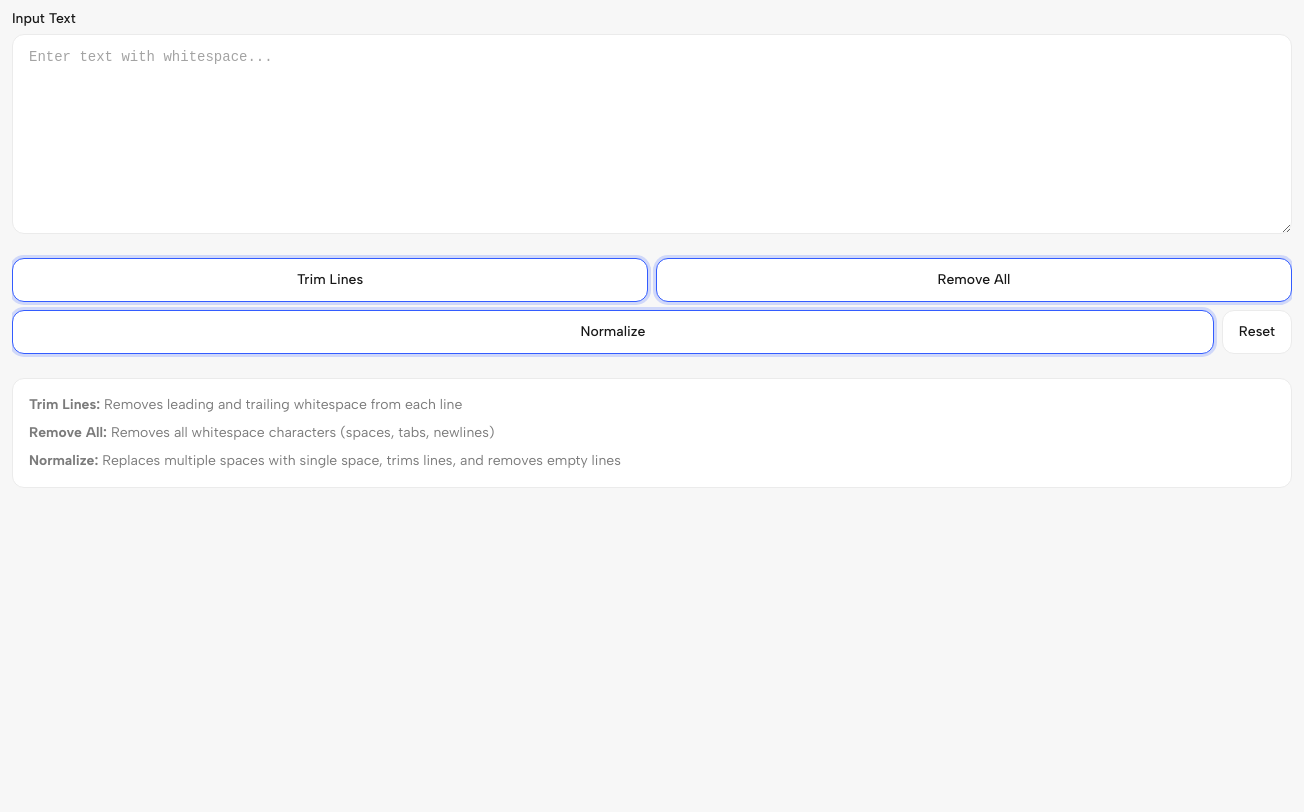
WhitespaceRemoverTool › resets the form
Type "  hello  " into the text box with placeholder "Enter text with whitespace...".
click(652, 134); type("  hello  ")  # box [12,34,1292,234]
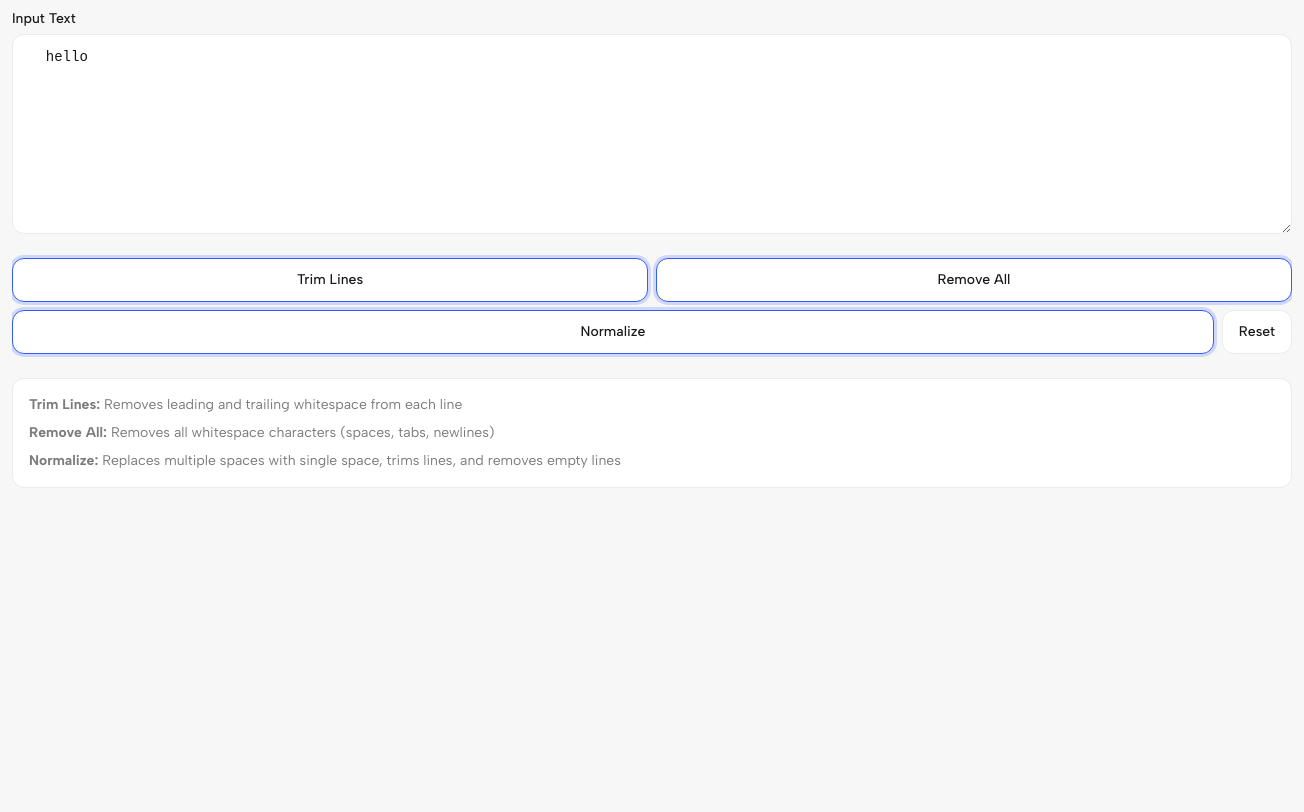
Click the button "Trim Lines".
click(330, 280)  # box [12,258,648,302]
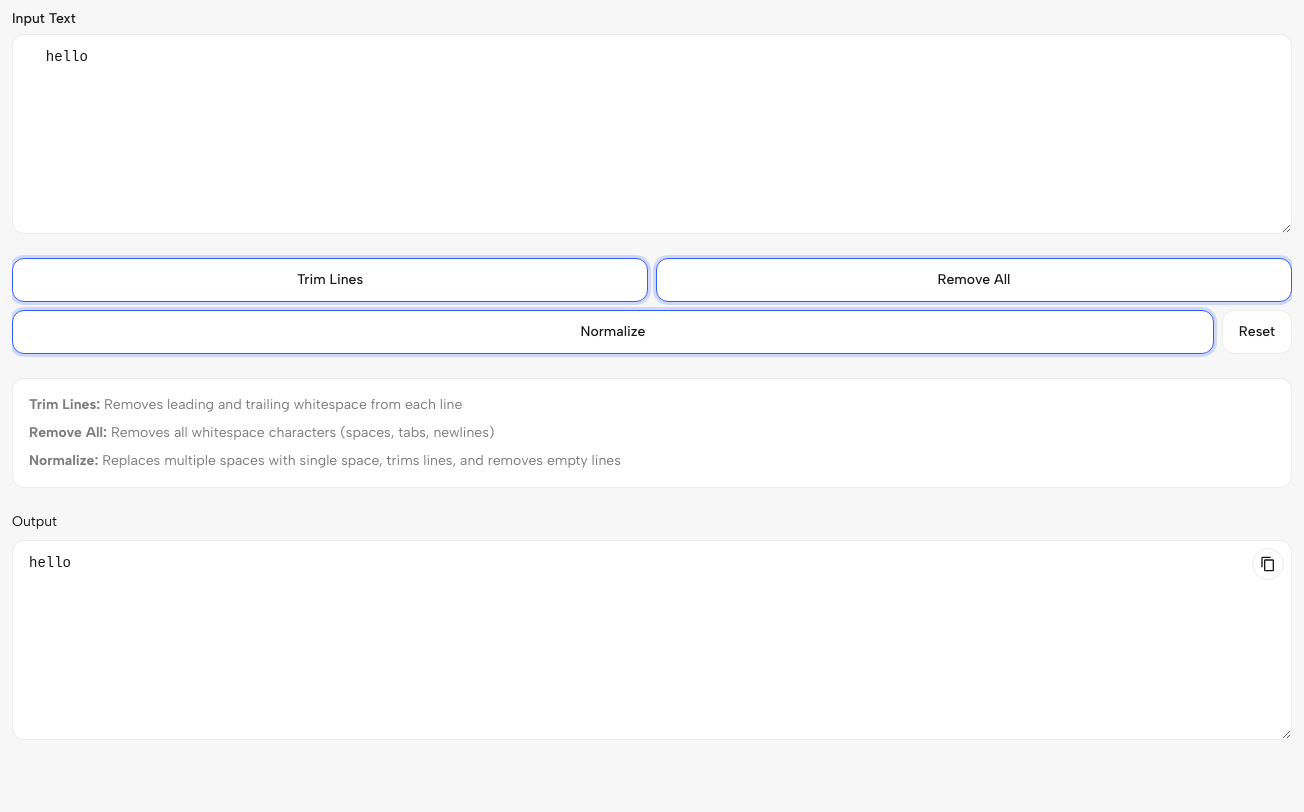
Click the button "Reset".
click(1257, 332)  # box [1222,310,1292,354]
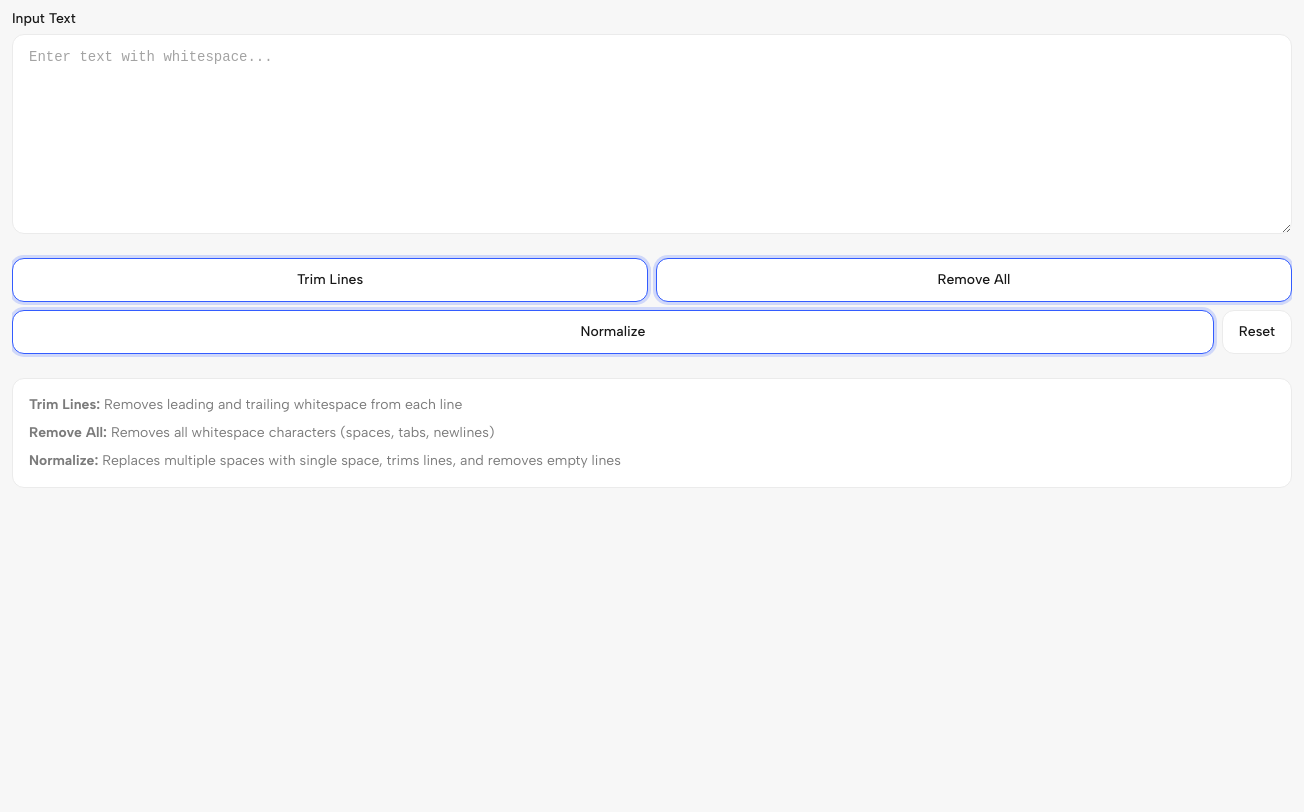
Now the text box with placeholder "Enter text with whitespace..." is empty, box [12,34,1292,234]
Now the text "Output" is gone
